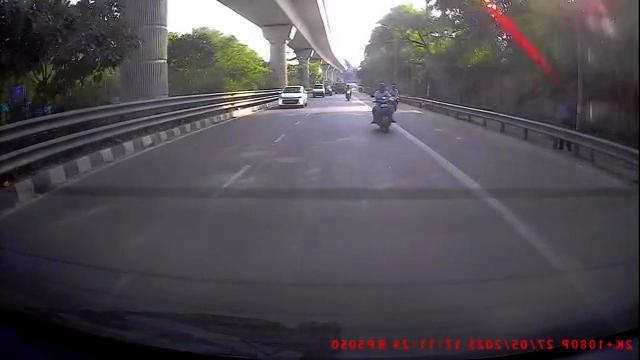motorcycle_with_helmet: (369, 80, 397, 133)
